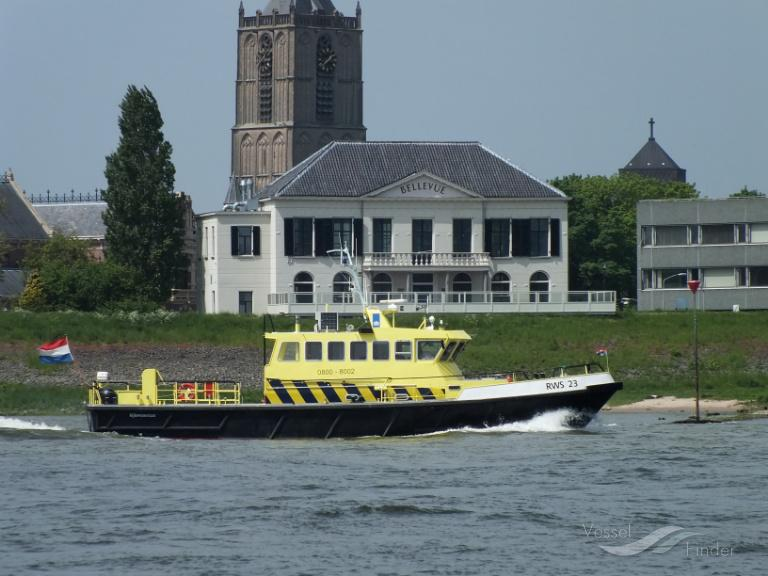OCR: (534, 375, 584, 394)
